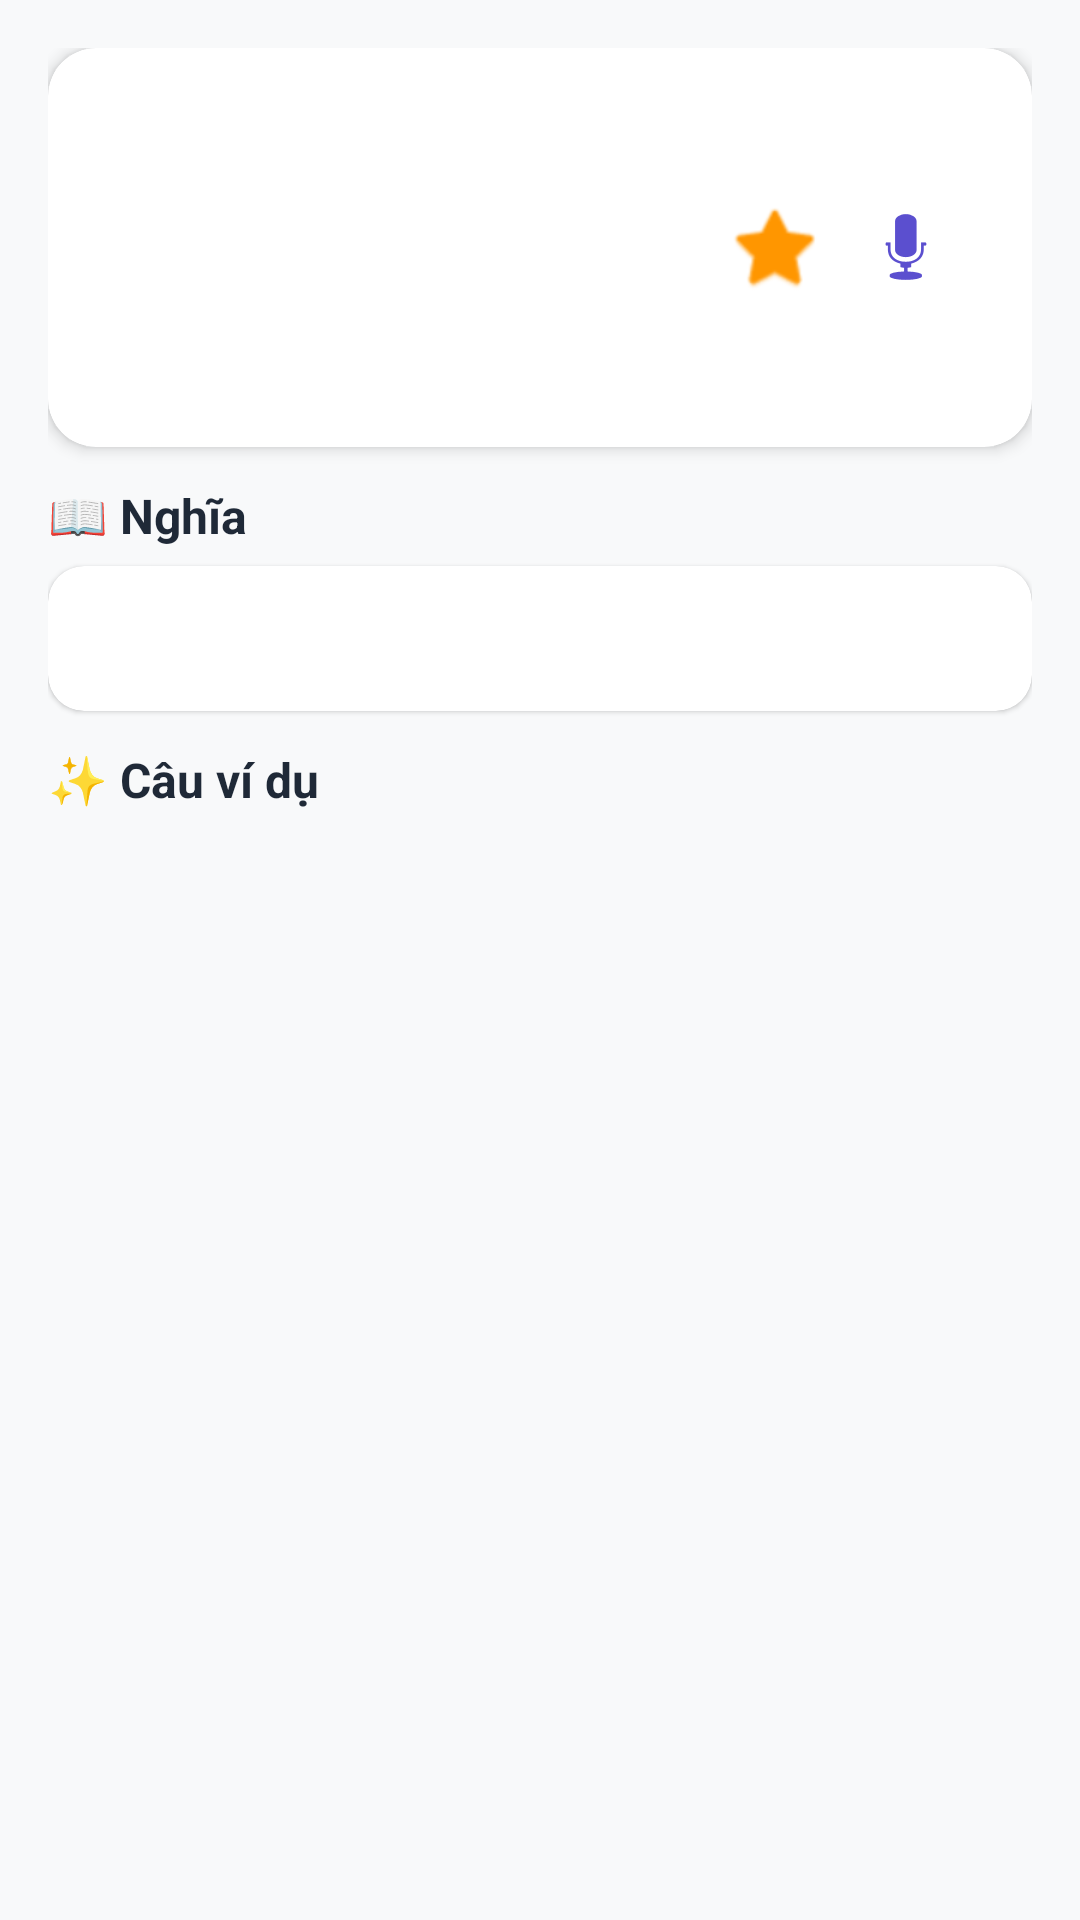

Screen size 1080 × 1920. Icon name, then its center in pixels as (x,y):
Phát âm: (906,247)
Yêu thích: (775,248)
